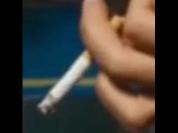Cigarette: (38, 13, 126, 112)
